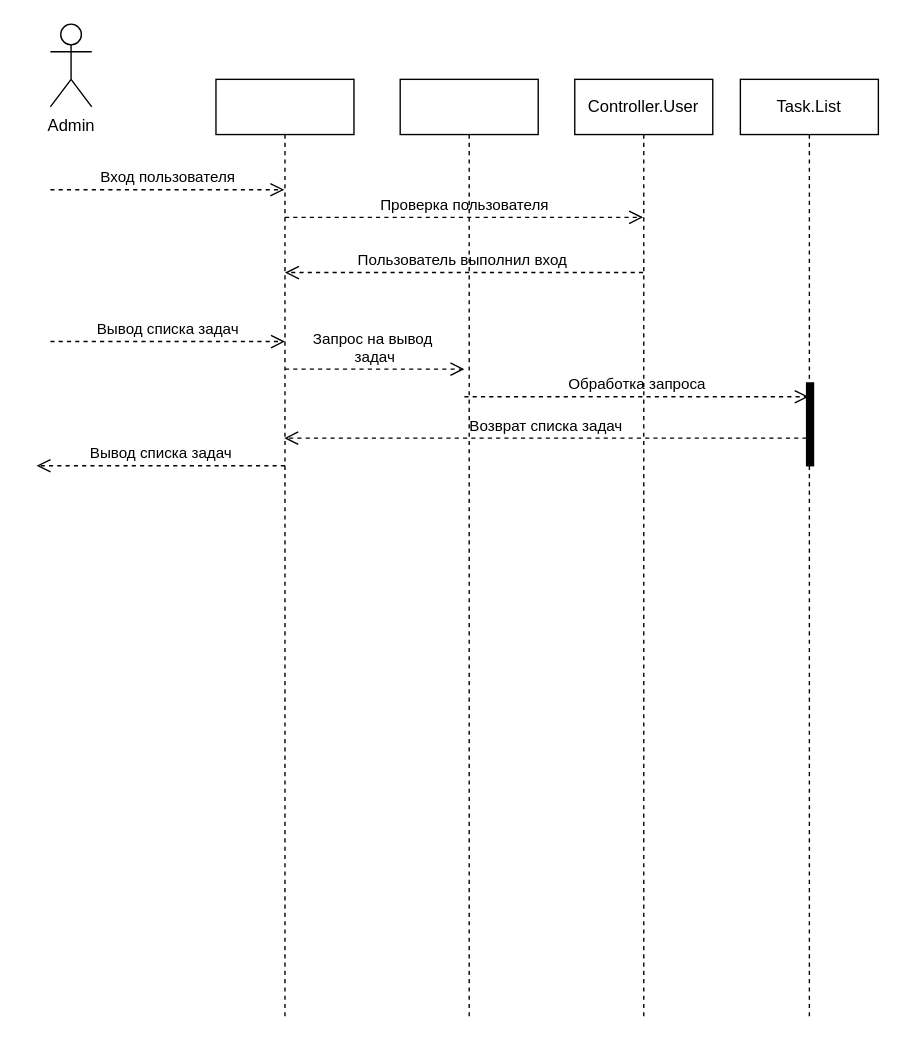
Image size: 903x1042. Some labels were removed from this diagram. The shapes that lost their labels are listed below. From the top down, each one's box as (x1, y1, x2, y2) in pixels, then its label:
(215, 78, 354, 1018): Controller
(399, 78, 538, 1018): Task
